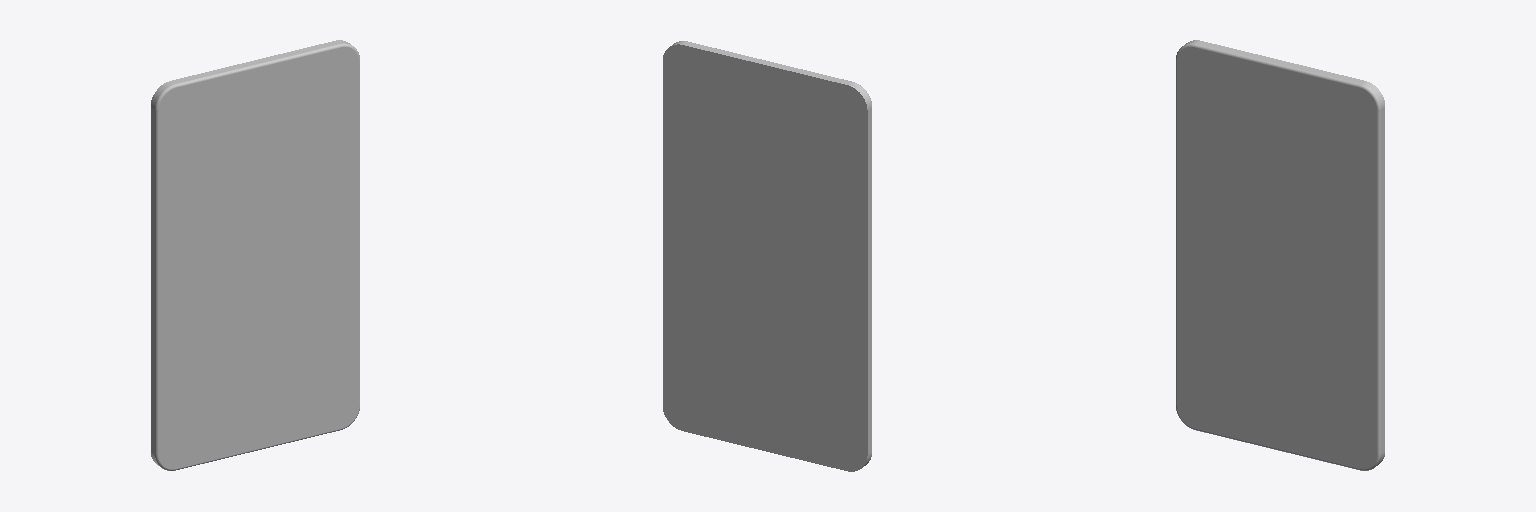
Rendered from Cutting_Board.obj.
3 views of the same model, side by side, from view 1: azimuth 30°, elevation 25°; view 2: azimuth 150°, elevation 25°; view 3: azimuth 330°, elevation 25° (orthographic).
Size of the model in its own units: 254 by 457 by 12.7.